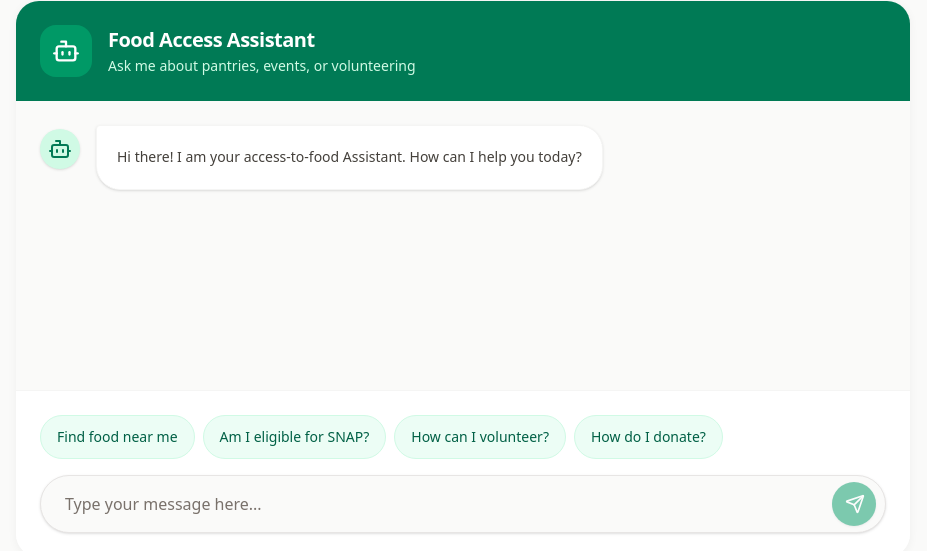
Assistant tool loop › a not_configured error from the server shows the unavailable banner
Click the button "Find food near me".
click(117, 437)  # box [40,415,195,459]
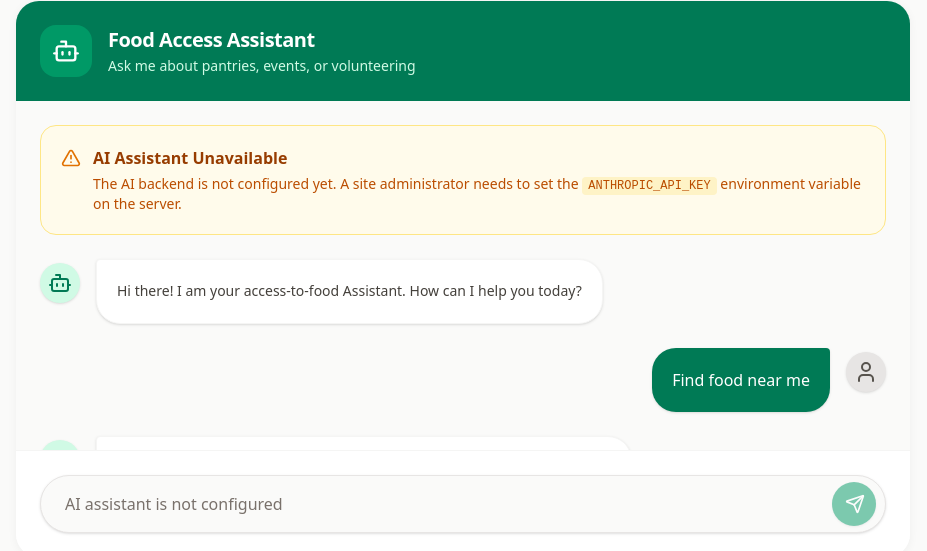
Result: the text "AI Assistant Unavailable" is shown at [93,147,287,169]
Result: the field named "Message the assistant" is disabled at [40,475,886,533]
